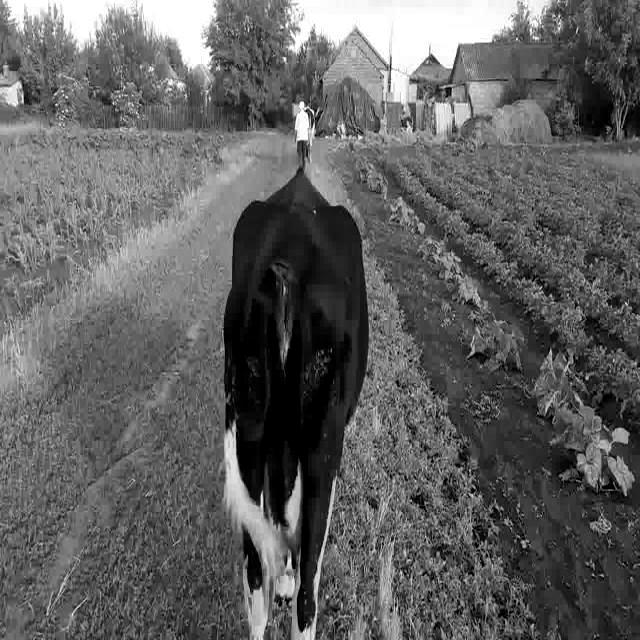COW: (224, 169, 369, 639)
